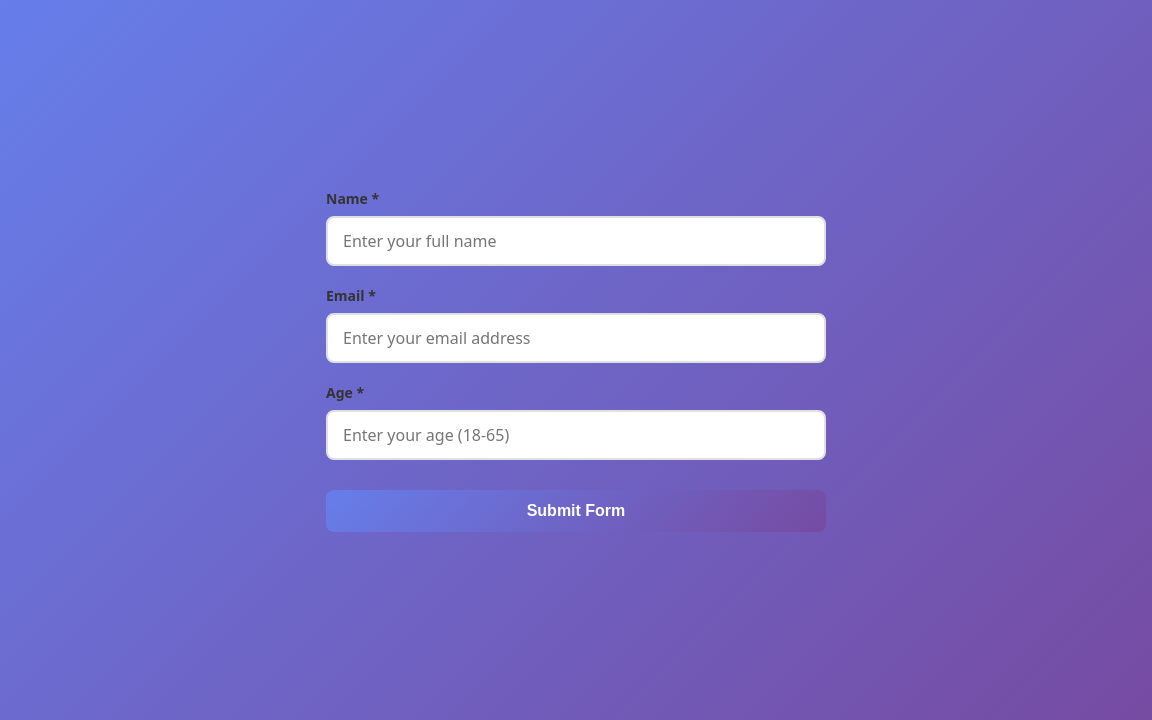
Test: FormComponent › Form Validation - Empty Fields › displays validation errors for empty fields on submit
Note: Click submit without filling any fields
Click the button "Submit Form" at (576, 510), box [326,490,826,532]
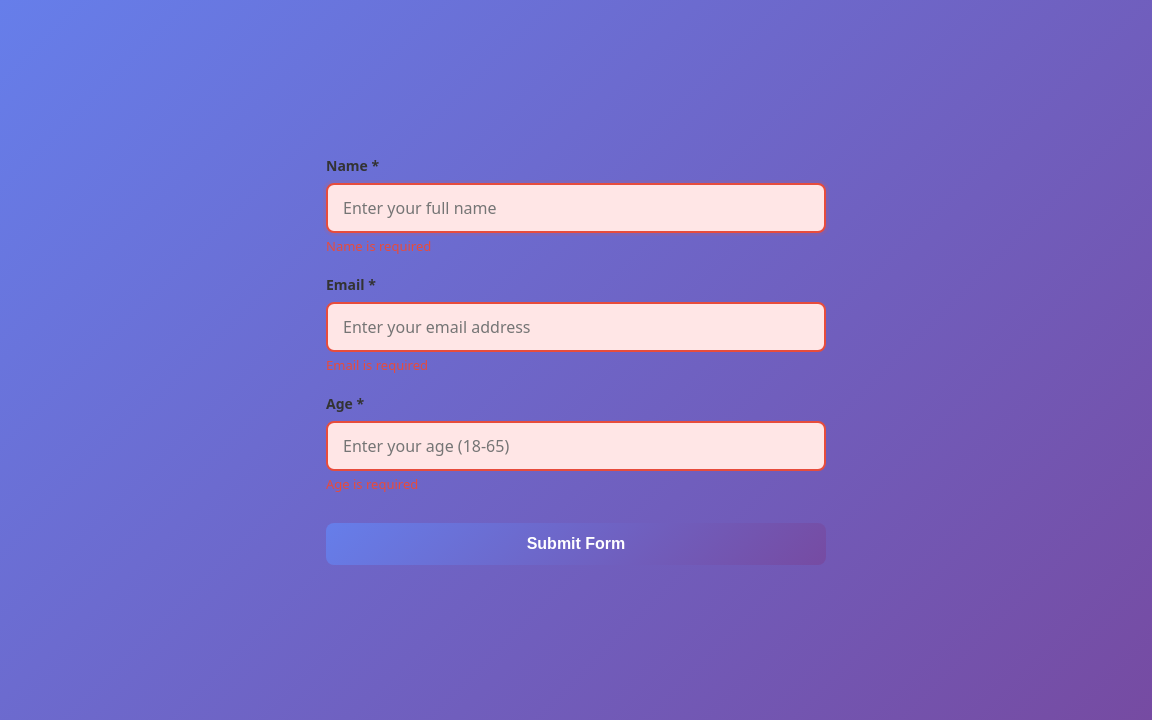
Check: the text "Name is required" is shown, box [326,236,431,254]
Check: the text "Email is required" is shown, box [326,356,428,374]
Check: the text "Age is required" is shown, box [326,474,418,492]
